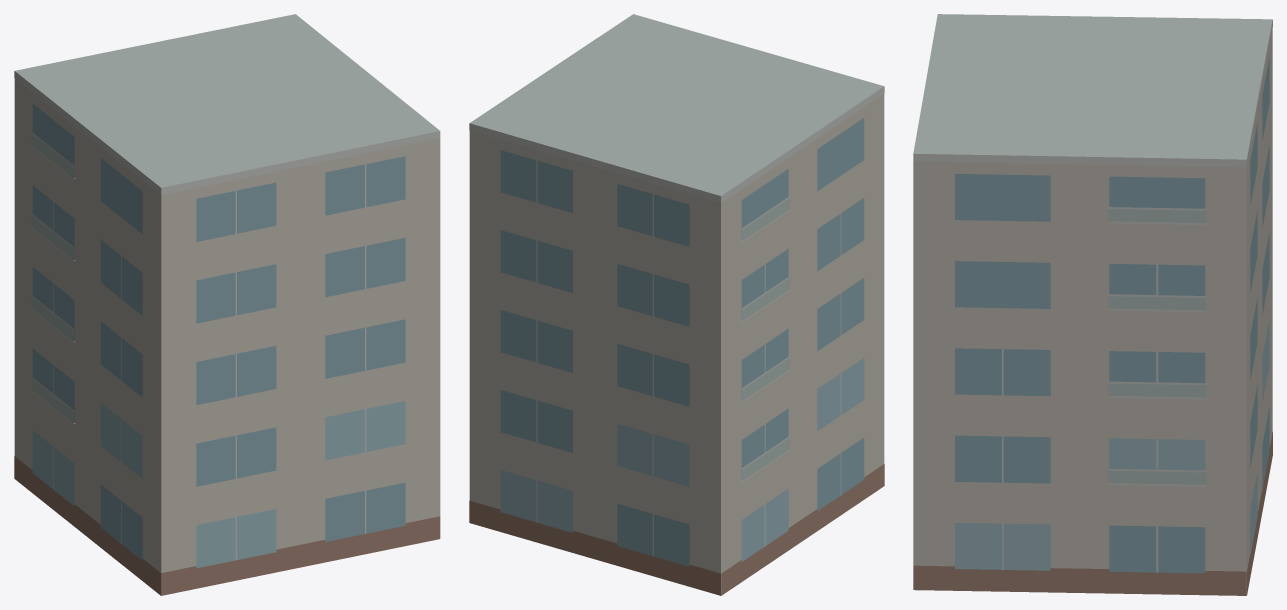
The model's file is survey-upis-33024477.glb.
The picture shows the model from 3 angles, left to right: view 1: azimuth 30°, elevation 25°; view 2: azimuth 150°, elevation 25°; view 3: azimuth 270°, elevation 25°; orthographic projection. The views are drawn at different scales.
Visible parts, largest first — view 1: survey-upis-33024477.tmp; view 2: survey-upis-33024477.tmp; view 3: survey-upis-33024477.tmp.
Boxes of the visible parts, left/top/right/bottom form: survey-upis-33024477.tmp: left=14, top=14, right=440, bottom=595; survey-upis-33024477.tmp: left=469, top=14, right=884, bottom=595; survey-upis-33024477.tmp: left=913, top=14, right=1272, bottom=595.
Size of the model in its own units: 9.89 by 13.8 by 10.32.
